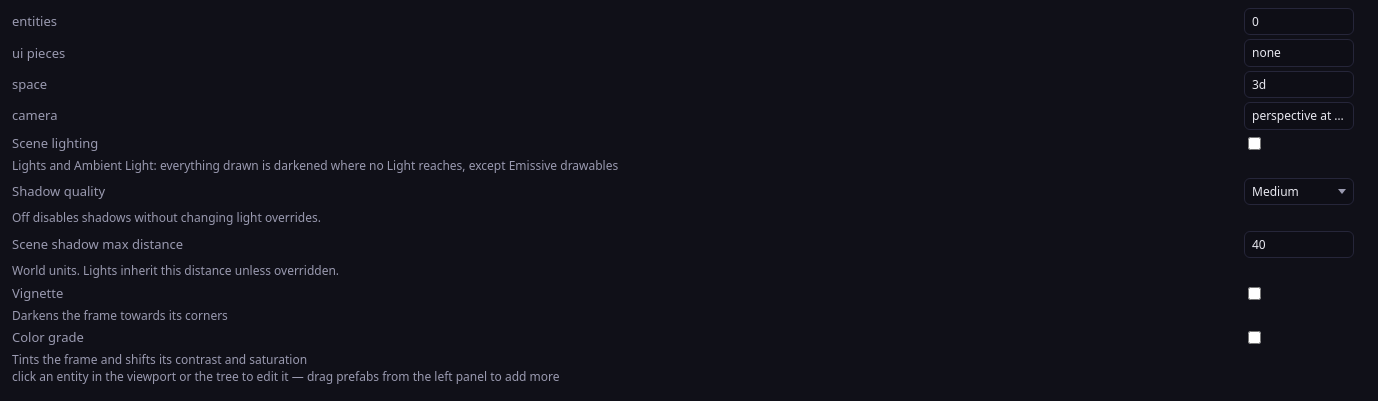
Test: CA-11: bounds an edited distance of 1001 to 1000 without materializing quality
The width and height of the screenshot is (1378, 401).
Replace the text in the number field labelled "Scene shadow max distance" with "1001" at (1299,244), box [1244, 231, 1354, 258]
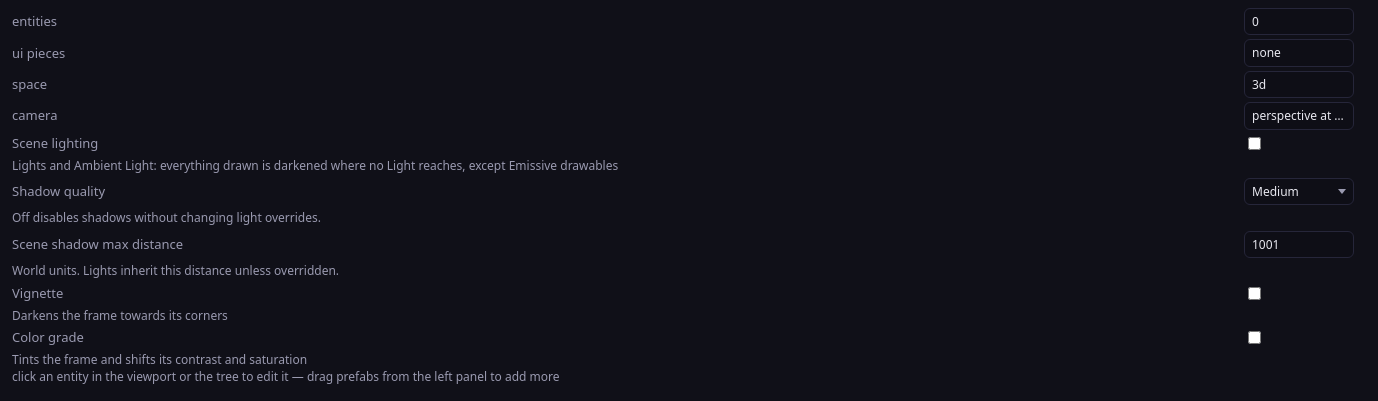
Leave the number field labelled "Scene shadow max distance", box [1244, 231, 1354, 258]
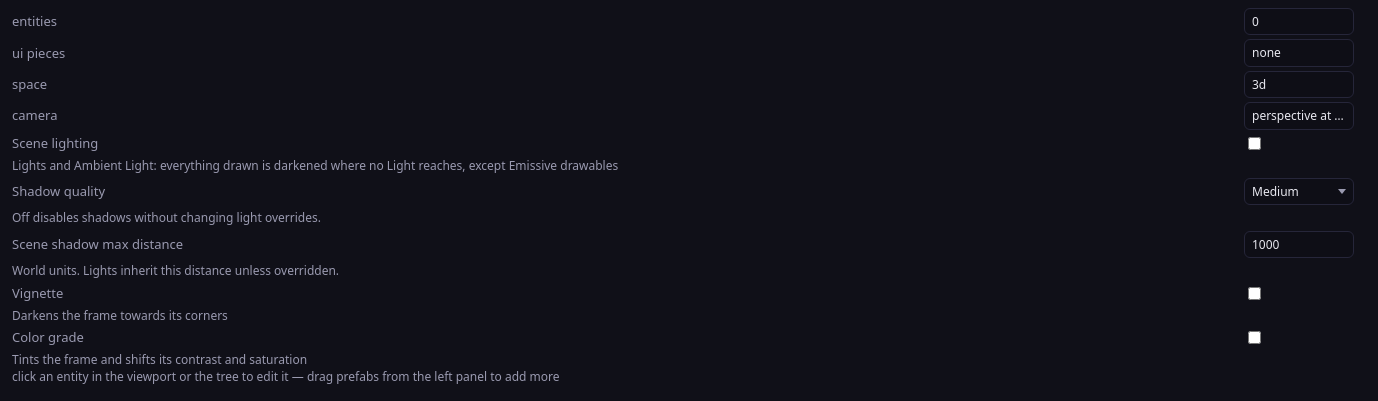
Expected: the number field labelled "Scene shadow max distance" holds "1000", [1244, 231, 1354, 258]
